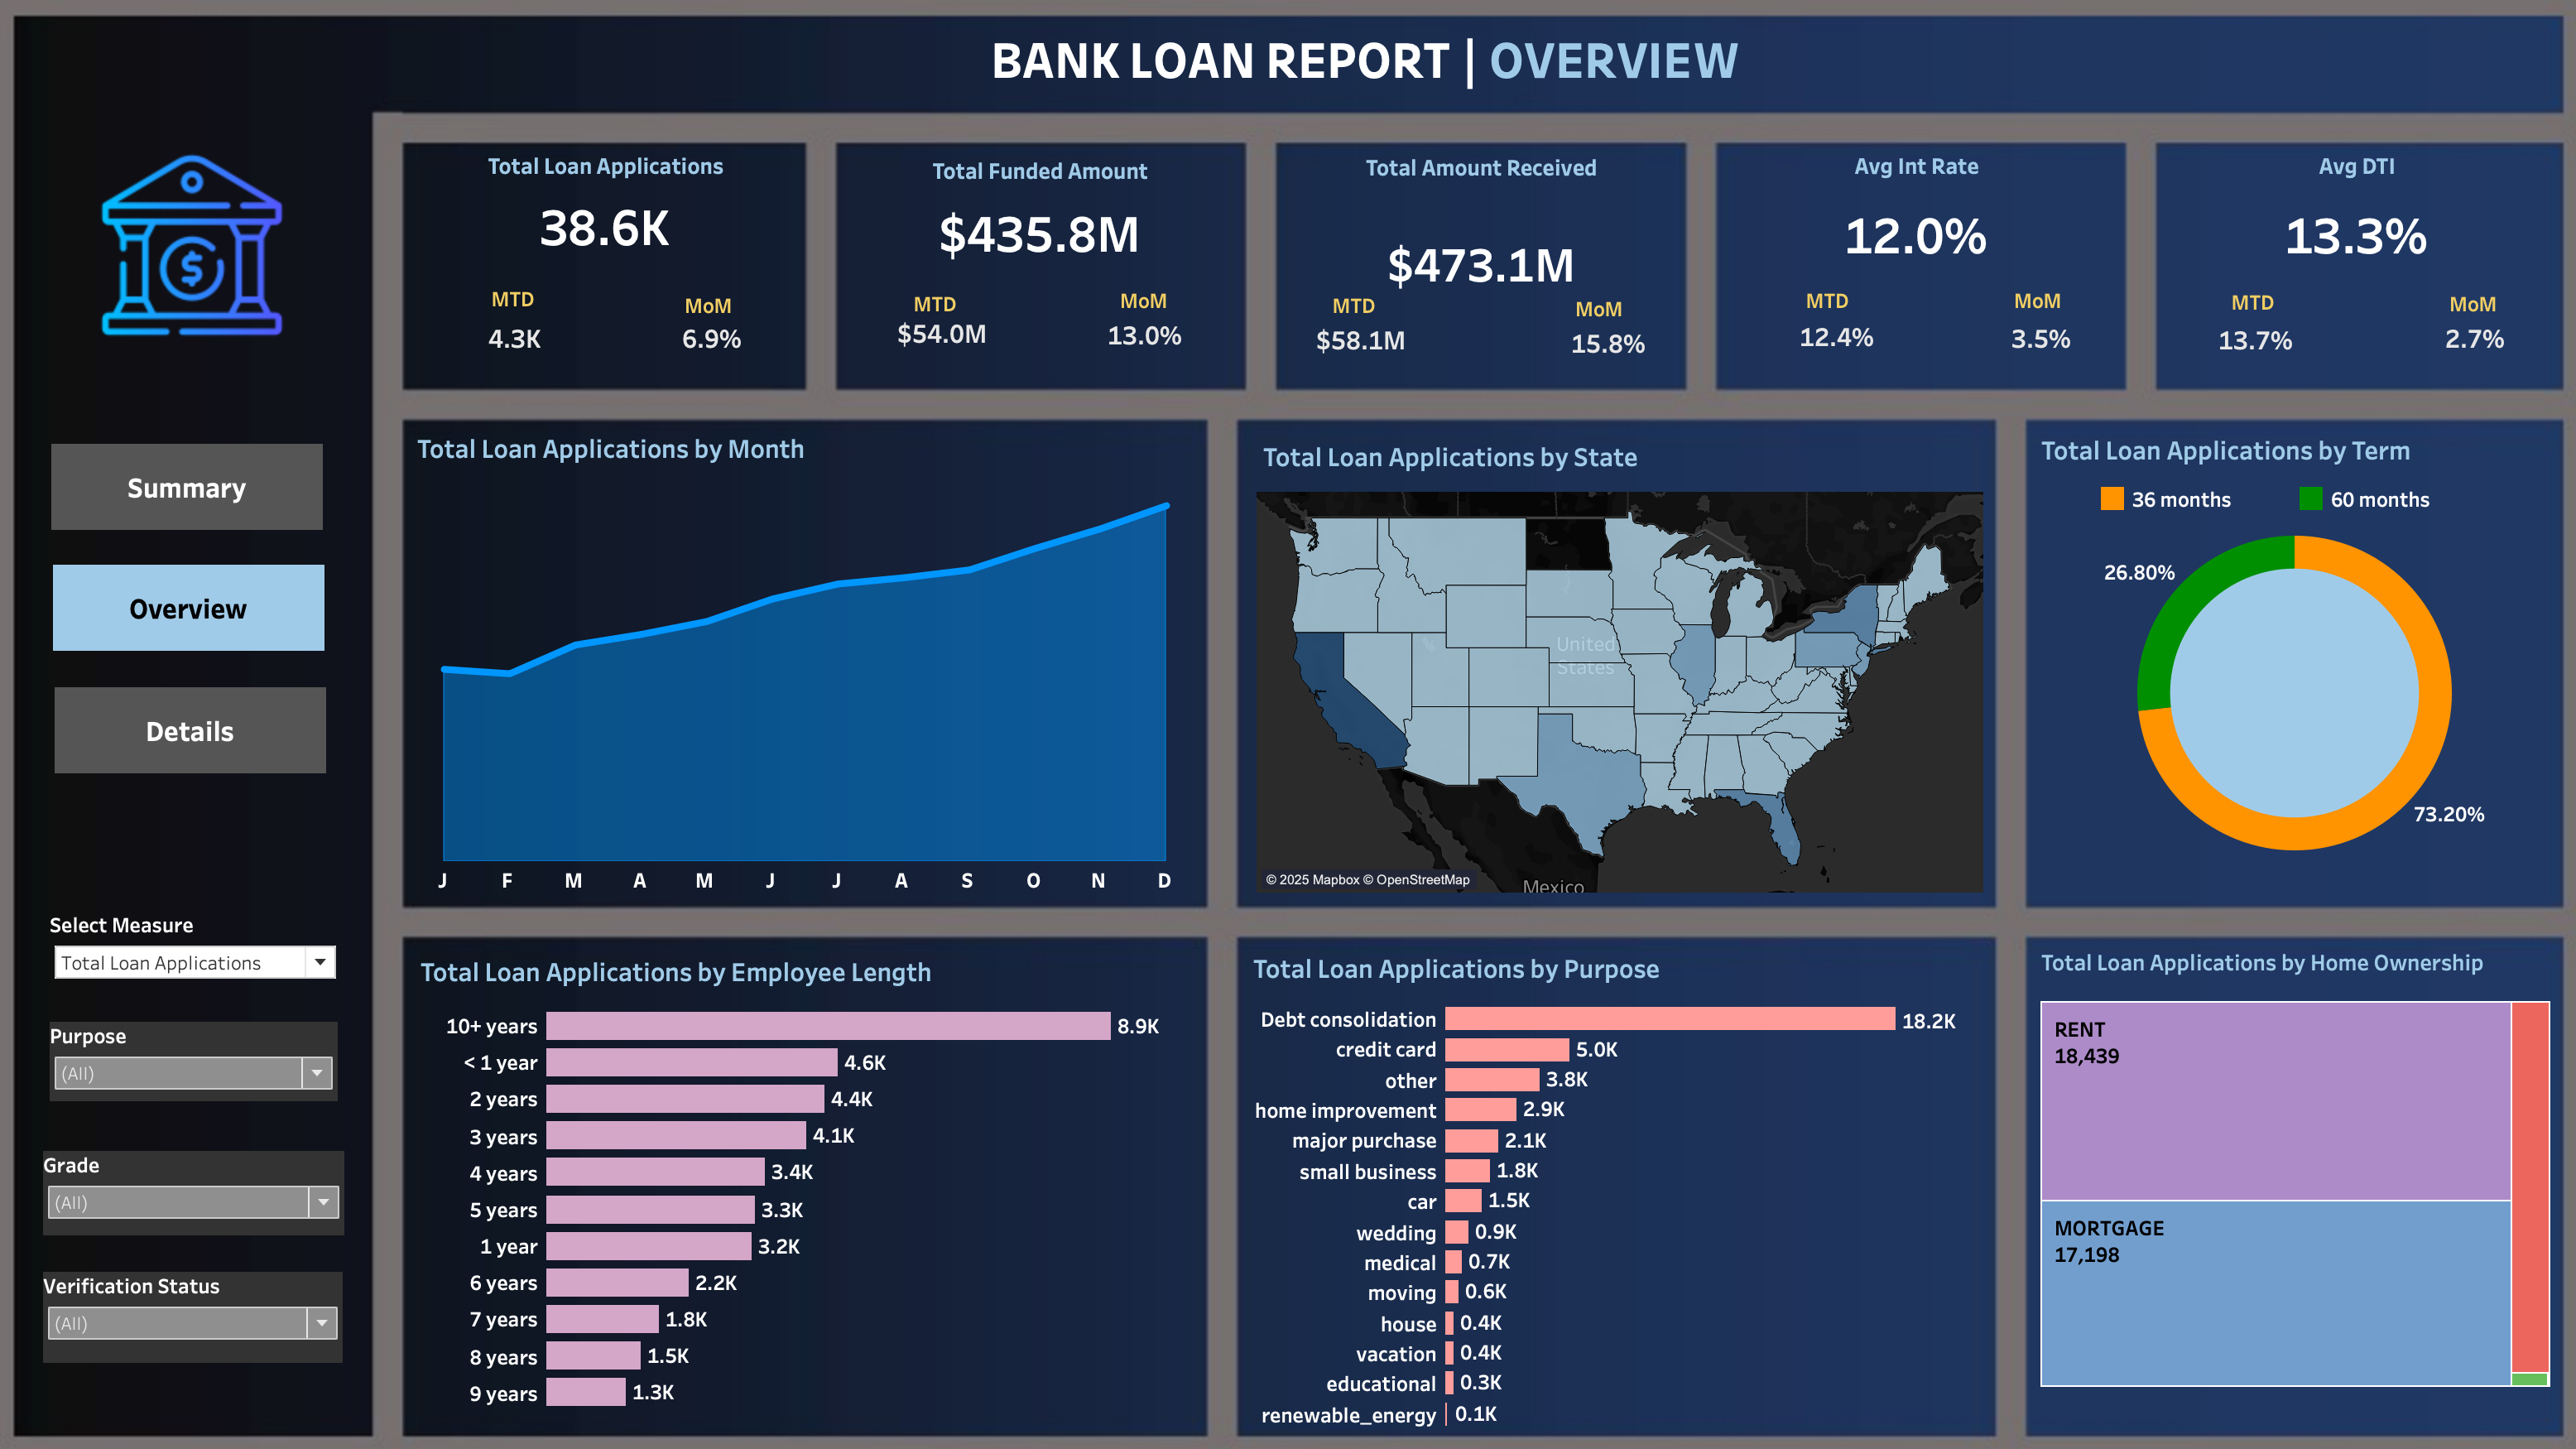

The dashboard page shown, as its layout file describes it:
{"tool":"tableau","page":{"name":"OVERVIEW","canvas":[1600,900],"ordinal":1},"visuals":[{"type":"image","param":"/Users/akhilnashaboina/Documents/Bank Loan Project/Tableau Background 2.jpg","box":[8,8,1584,884]},{"type":"text","box":[617,27,474,40]},{"type":"image","param":"/var/folders/p4/2l67zrp17b7ft3rqsyjzx5cr0000gn/T/tableau-temp/0e35jhp16tpgta1fqs","box":[65,98,144,124]},{"type":"worksheet","title":"Total Loan Applications","mark":"Automatic","box":[268,99,238,67]},{"type":"worksheet","title":"Avg Int Rate","mark":"Automatic","box":[1060,99,238,76]},{"type":"worksheet","title":"Avg DTI","mark":"Automatic","box":[1327,99,236,76]},{"type":"worksheet","title":"Total Amount Received","mark":"Automatic","box":[797,100,238,94]},{"type":"worksheet","title":"Total Funded Amount","mark":"Automatic","box":[531,102,237,68]},{"type":"text","box":[301,177,60,30]},{"type":"text","box":[1095,178,60,30]},{"type":"text","box":[1352,179,60,30]},{"type":"text","box":[556,180,60,30]},{"type":"text","box":[685,180,54,27]},{"type":"text","box":[1225,180,54,27]},{"type":"text","box":[809,181,60,30]},{"type":"text","box":[1488,182,54,27]},{"type":"text","box":[422,183,54,27]},{"type":"text","box":[960,185,54,27]},{"type":"worksheet","title":"MTD Total Funded Amount","mark":"Automatic","box":[553,193,76,42]},{"type":"worksheet","title":"MoM Total Funded Amount","mark":"Automatic","box":[678,193,69,44]},{"type":"worksheet","title":"MTD Avg Int Rate","mark":"Automatic","box":[1099,196,64,39]},{"type":"worksheet","title":"MTD Total Loan Applications","mark":"Automatic","box":[299,197,67,39]},{"type":"worksheet","title":"MTD Avg DTI","mark":"Automatic","box":[1356,197,56,42]},{"type":"worksheet","title":"MoM Avg Int Rate","mark":"Automatic","box":[1220,198,68,37]},{"type":"worksheet","title":"MTD Total Amount Received","mark":"Automatic","box":[808,199,71,37]},{"type":"worksheet","title":"MoM Total Amount Received","mark":"Automatic","box":[955,200,76,39]},{"type":"worksheet","title":"MoM Avg DTI","mark":"Automatic","box":[1488,200,57,34]},{"type":"worksheet","title":"MoM Loan Applications","mark":"Automatic","box":[427,202,49,29]},{"type":"worksheet","title":"Month","mark":"Area","rows":["Calculation_5300596061913022464","Calculation_5300596061913022464"],"cols":["issue_date"],"box":[269,268,476,285]},{"type":"worksheet","title":"Term","mark":"Pie","rows":["Calculation_5300596062095032324","Calculation_5300596062095712262"],"box":[1250,269,314,287]},{"type":"worksheet","title":"State","mark":"Multipolygon","box":[780,273,439,278]},{"type":"dashboard-object","box":[52,280,164,52]},{"type":"legend","title":"Term","param":"[federated.0kf2hzg1sb7jsc10xx9gb1ky2994].[none:term:nk]","box":[1287,303,251,21]},{"type":"dashboard-object","box":[53,353,164,52]},{"type":"dashboard-object","box":[54,427,164,52]},{"type":"parameter","param":"[Parameters].[Parameter 1]","box":[51,562,176,44]},{"type":"worksheet","title":"Home Own","mark":"Automatic","box":[1250,580,315,279]},{"type":"worksheet","title":"Purpose","mark":"Automatic","rows":["purpose"],"cols":["Calculation_5300596061913022464"],"box":[774,582,447,293]},{"type":"worksheet","title":"Employee Length","mark":"Automatic","rows":["emp_length"],"cols":["Calculation_5300596061913022464"],"box":[271,584,472,280]},{"type":"filter","title":"Avg DTI","param":"[federated.0kf2hzg1sb7jsc10xx9gb1ky2994].[none:purpose:nk]","box":[51,629,174,48]},{"type":"filter","title":"Avg DTI","param":"[federated.0kf2hzg1sb7jsc10xx9gb1ky2994].[none:grade:nk]","box":[47,707,182,51]},{"type":"filter","title":"Avg DTI","param":"[federated.0kf2hzg1sb7jsc10xx9gb1ky2994].[none:verification_status:nk]","box":[47,780,181,55]}]}

Visuals, with their boxes in screenshot pixels (x1, y1, x2, y2), scaled from the page's 1600x900 canvas onto the 2576x1449 screenshot:
image: (13,13,2563,1436)
text: (993,43,1757,108)
image: (104,158,337,358)
"Total Loan Applications" worksheet: (431,159,815,267)
"Avg Int Rate" worksheet: (1707,159,2090,282)
"Avg DTI" worksheet: (2136,159,2516,282)
"Total Amount Received" worksheet: (1283,161,1666,312)
"Total Funded Amount" worksheet: (855,164,1237,274)
text: (484,285,581,333)
text: (1763,286,1859,335)
text: (2177,288,2273,336)
text: (895,290,992,338)
text: (1103,290,1189,333)
text: (1973,290,2059,333)
text: (1303,291,1399,339)
text: (2396,293,2482,336)
text: (680,295,767,338)
text: (1545,298,1632,341)
"MTD Total Funded Amount" worksheet: (891,310,1012,378)
"MoM Total Funded Amount" worksheet: (1092,310,1203,382)
"MTD Avg Int Rate" worksheet: (1770,315,1872,378)
"MTD Total Loan Applications" worksheet: (482,317,589,380)
"MTD Avg DTI" worksheet: (2183,317,2273,385)
"MoM Avg Int Rate" worksheet: (1964,319,2074,378)
"MTD Total Amount Received" worksheet: (1301,320,1415,380)
"MoM Total Amount Received" worksheet: (1537,322,1660,385)
"MoM Avg DTI" worksheet: (2396,322,2487,377)
"MoM Loan Applications" worksheet: (688,325,767,372)
"Month" worksheet (Area marks): (433,431,1199,890)
"Term" worksheet (Pie marks): (2012,433,2518,895)
"State" worksheet (Multipolygon marks): (1256,440,1963,887)
dashboard-object: (84,450,348,535)
"Term" legend: (2072,488,2476,522)
dashboard-object: (85,568,349,652)
dashboard-object: (87,687,351,771)
parameter: (82,905,366,975)
"Home Own" worksheet: (2012,934,2520,1383)
"Purpose" worksheet: (1246,937,1966,1408)
"Employee Length" worksheet: (436,941,1196,1391)
"Avg DTI" filter: (82,1013,363,1090)
"Avg DTI" filter: (75,1138,368,1220)
"Avg DTI" filter: (75,1256,367,1345)
